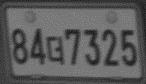2: (100, 28, 119, 66)
3: (82, 27, 101, 65)
4: (29, 28, 47, 65)
5: (119, 28, 138, 66)
7: (63, 27, 82, 65)
8: (10, 27, 29, 64)
더: (45, 35, 65, 66)
